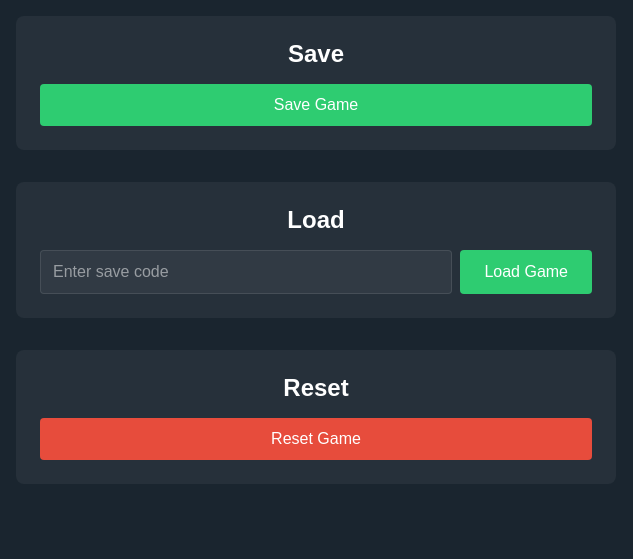
it: SaveLoadView › Reset Game › should reset game on second click within timeout
Note: First click
Click the button with class "reset-button".
click(316, 439)  # box [40,418,592,460]
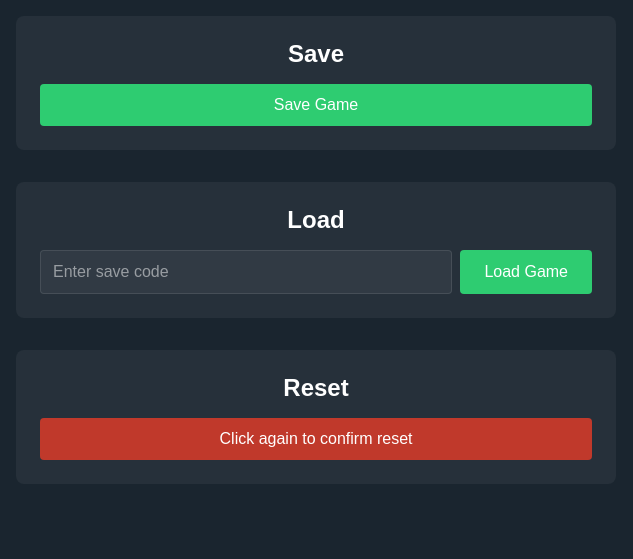
Expected: the button with class "reset-button" reads "Click again to confirm reset"
Note: Second click
Click the button with class "reset-button".
click(316, 439)  # box [40,418,592,460]
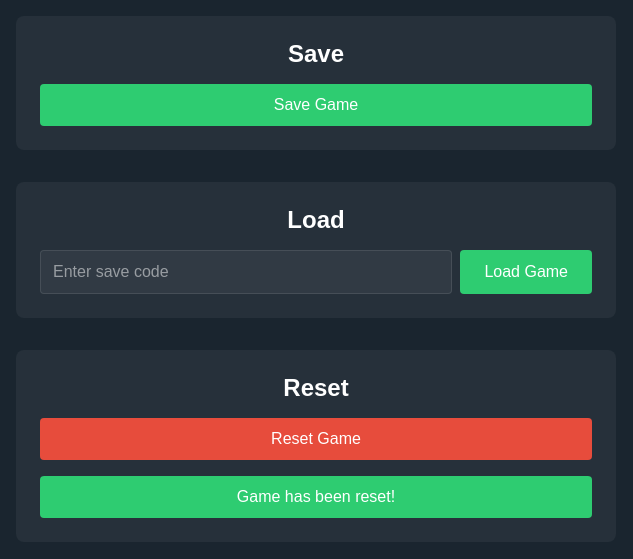
Expected: the text with class "message" reads "Game has been reset!", [237,488,395,505]
